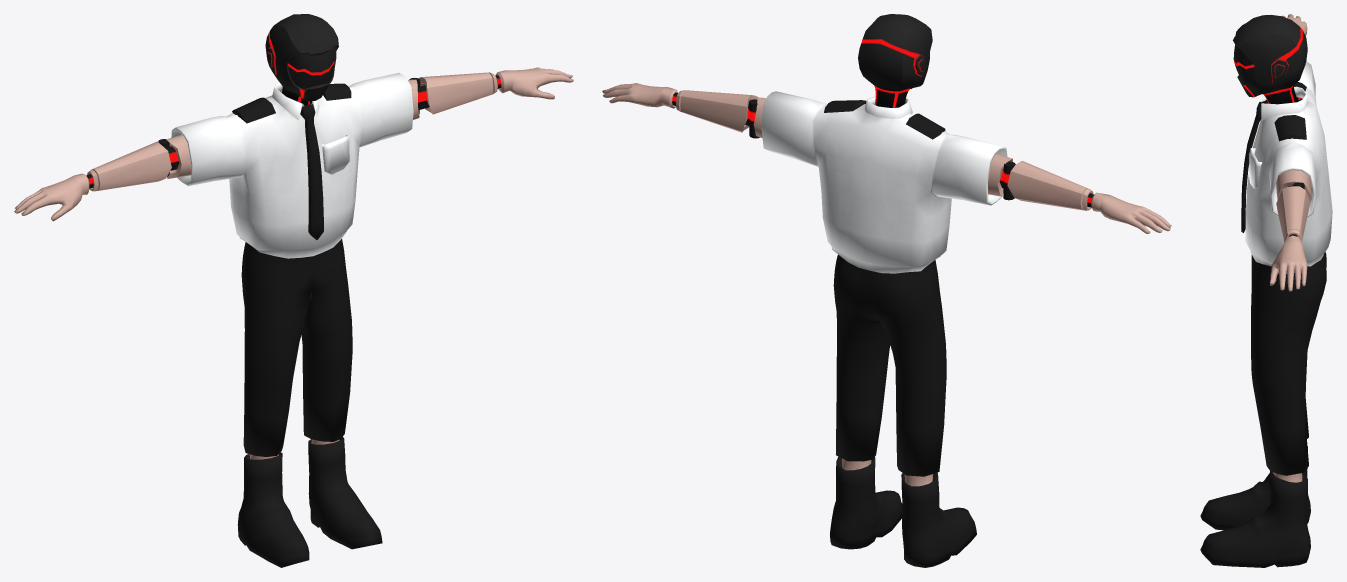
File: enemy_schoolguard.fbx
The picture shows the model from 3 angles, left to right: view 1: azimuth 30°, elevation 25°; view 2: azimuth 150°, elevation 25°; view 3: azimuth 270°, elevation 25°; orthographic projection.
Parts seen in each view (by area): view 1: schoolguard; view 2: schoolguard; view 3: schoolguard.
Boxes of the visible parts, x1=… form: schoolguard: x1=14, y1=14, x2=573, y2=567; schoolguard: x1=602, y1=14, x2=1171, y2=567; schoolguard: x1=1200, y1=14, x2=1332, y2=567.
Bounding box in the file's own units: 2.03 × 1.8 × 0.4141.
1 material, 1 textured.
